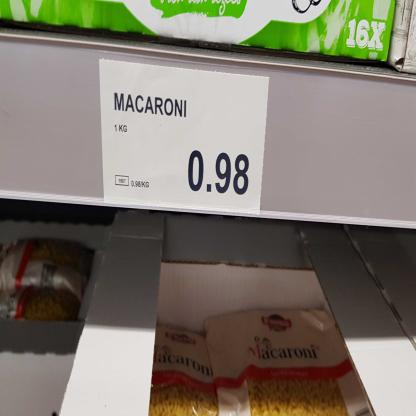prtg: (101, 62, 270, 215)
